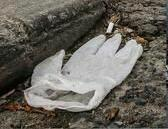gloves: (26, 32, 143, 114)
